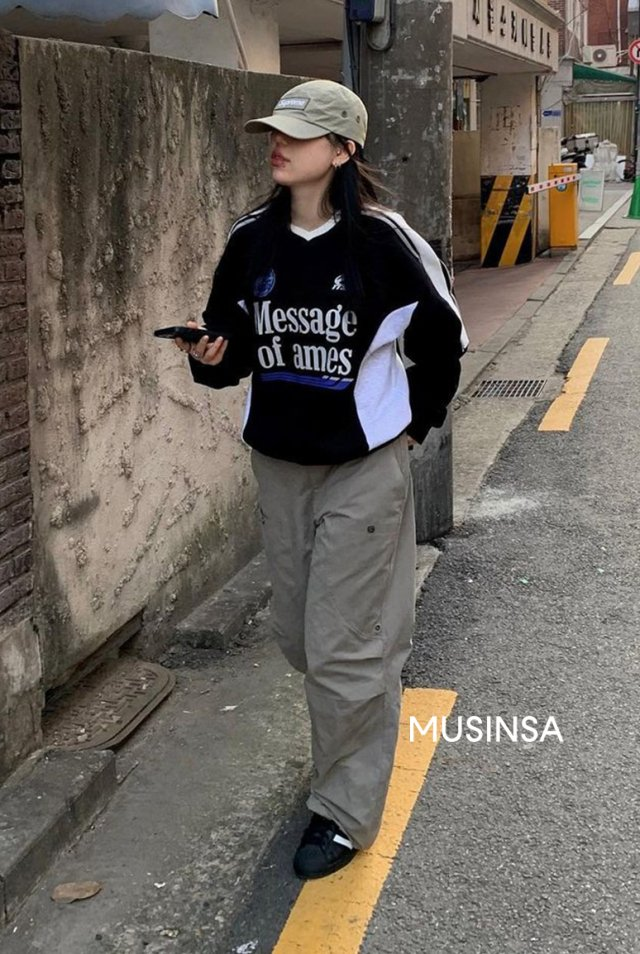Cap: (241, 76, 376, 146)
Pants: (249, 438, 410, 852)
Shoes: (287, 803, 360, 876)
Sweatshirt: (188, 204, 470, 454)
